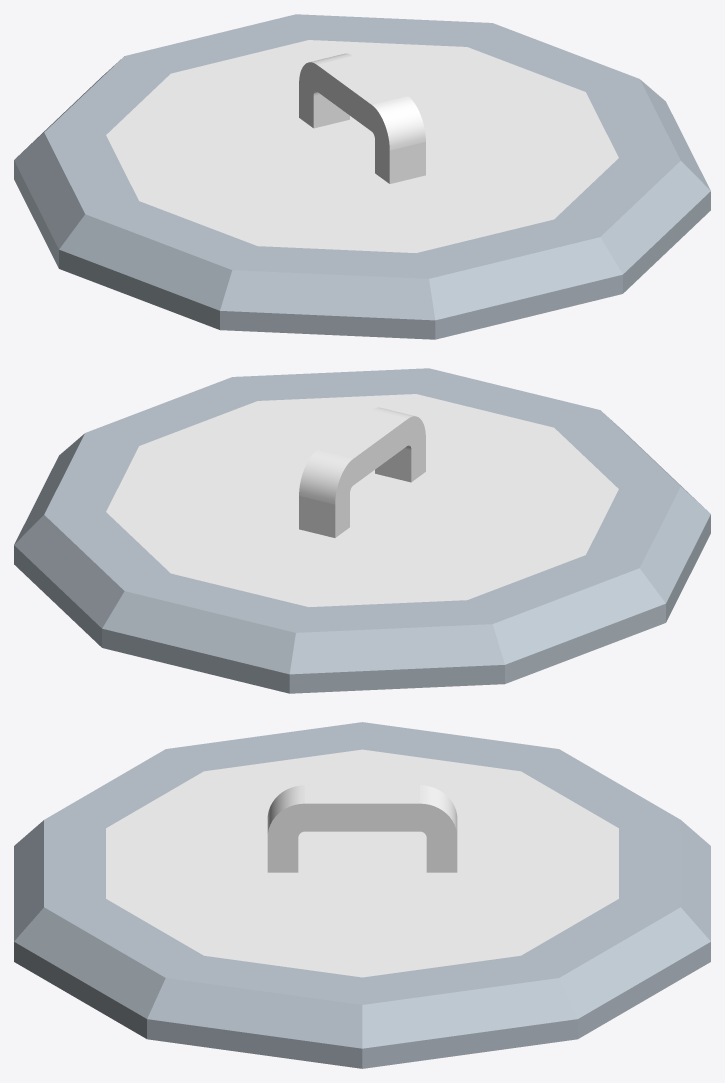
Rendered from potLid.glb.
3 views of the same model, one above another, from view 1: azimuth 30°, elevation 25°; view 2: azimuth 150°, elevation 25°; view 3: azimuth 270°, elevation 25° (orthographic). The views are drawn at different scales.
Visible parts, largest first — view 1: potLid; view 2: potLid; view 3: potLid.
Boxes of the visible parts, bbox=[...] form: potLid: bbox=[14, 14, 710, 339]; potLid: bbox=[14, 368, 710, 693]; potLid: bbox=[14, 722, 710, 1068].
Bounding box in the file's own units: 0.6574 × 0.1184 × 0.6253.
